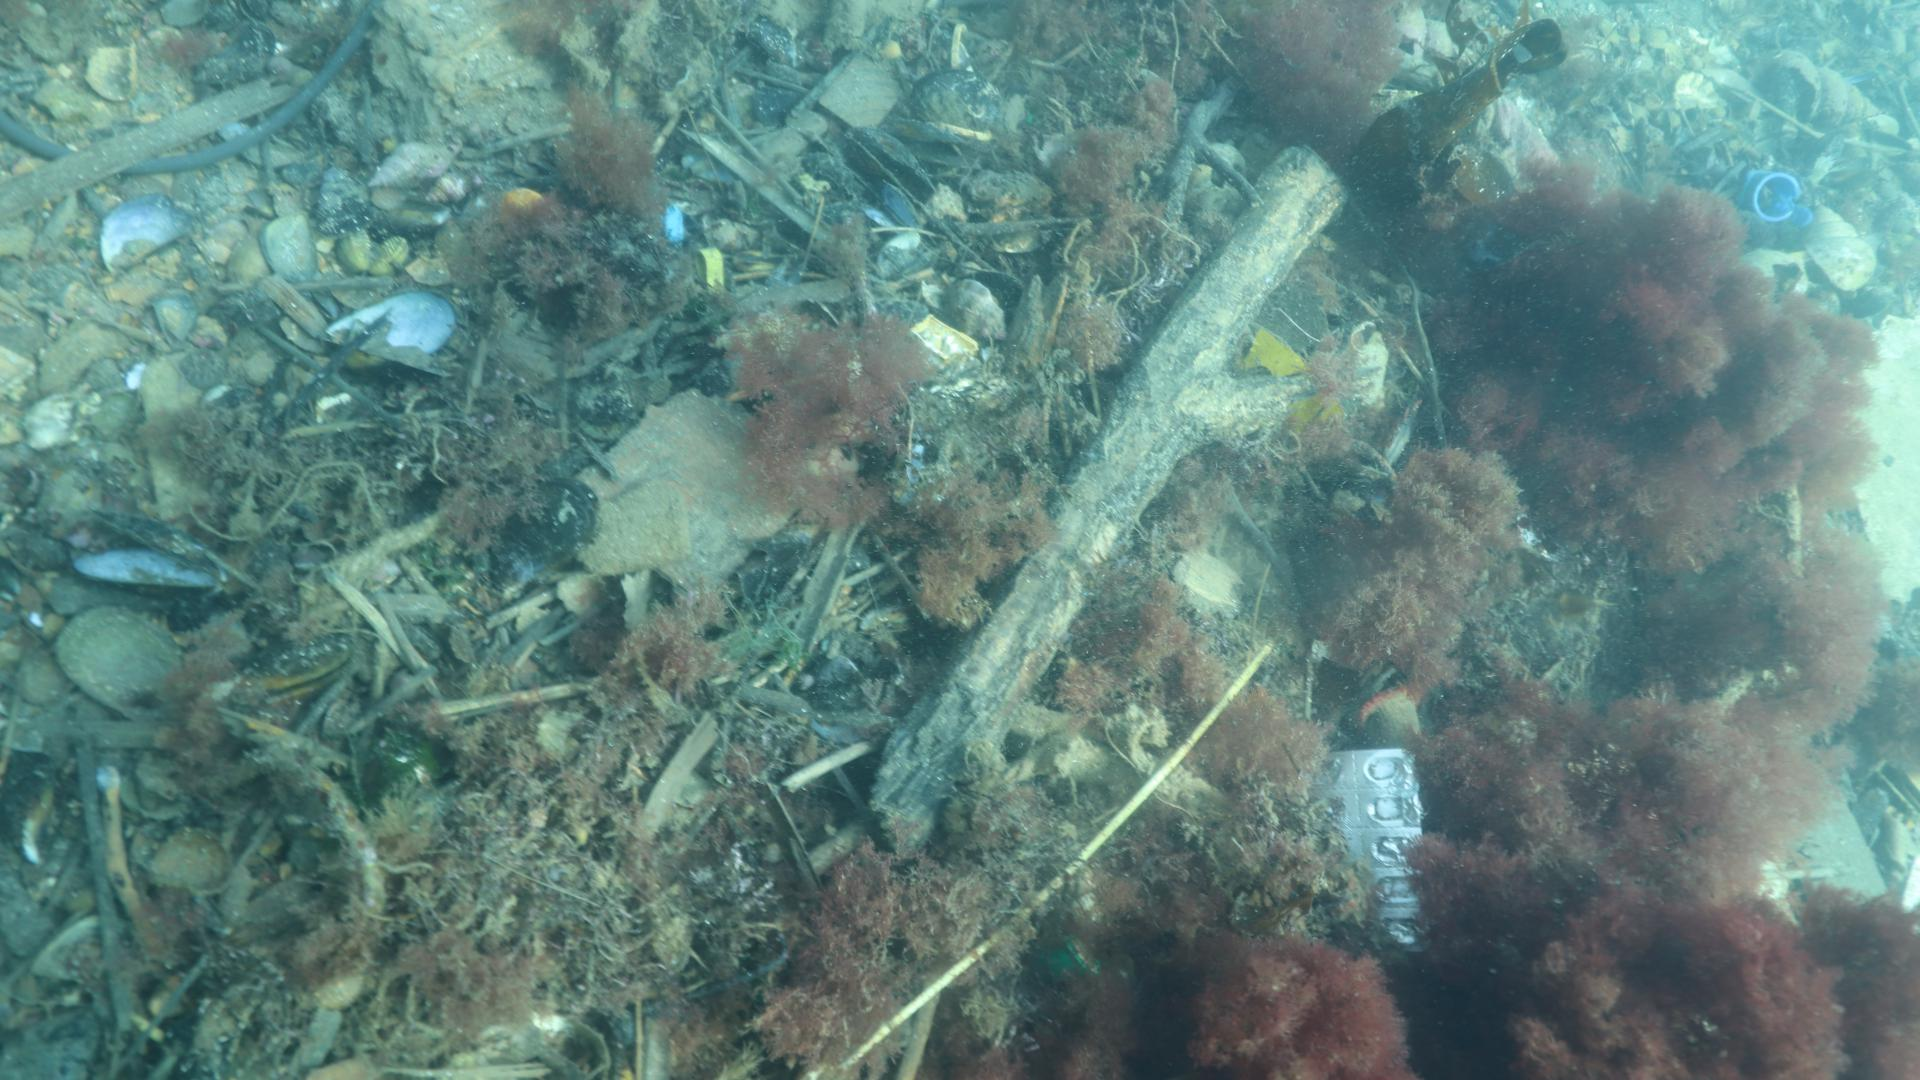wood: (865, 142, 1348, 855)
